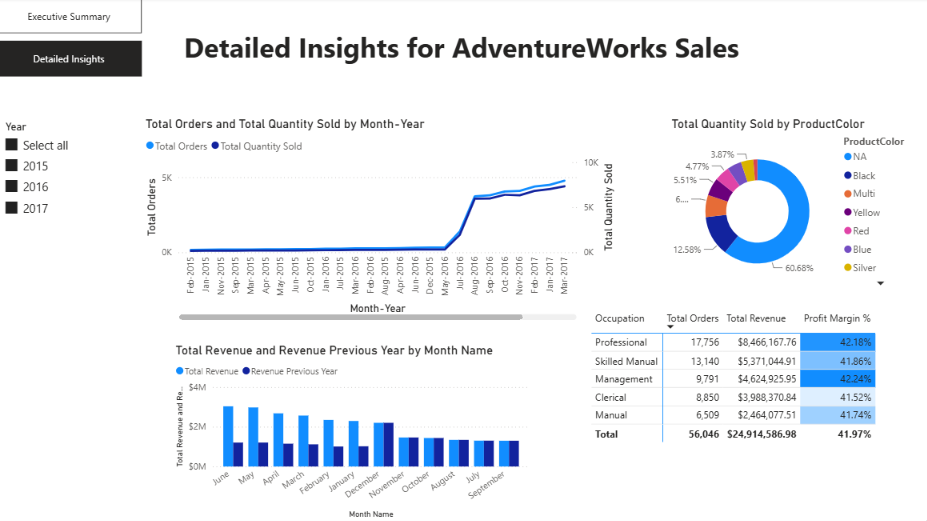

What the dashboard file says about the page in this screenshot:
{"tool":"powerbi","page":{"name":"Detailed Insights","canvas":[1280,720],"ordinal":1},"visuals":[{"type":"lineChart","fields":{"Category":["Dim_Date.Month-Year"],"Y":["_Measures.Total Orders"],"Y2":["_Measures.Total Quantity Sold"]},"box":[200.3,163.3,653.2,284],"z":0},{"type":"donutChart","fields":{"Y":["_Measures.Total Quantity Sold"],"Category":["Products.ProductColor"]},"box":[922.1,163.3,345.8,241.5],"z":1000},{"type":"clusteredColumnChart","fields":{"Category":["Dim_Date.Month Name"],"Y":["_Measures.Total Revenue","_Measures.Revenue Previous Year"]},"box":[241.5,473.4,495.4,247],"z":2000},{"type":"pivotTable","fields":{"Rows":["Customers.Occupation"],"Values":["_Measures.Total Orders","_Measures.Total Revenue","_Measures.Profit Margin %"]},"box":[812.4,422.6,467.9,285.4],"z":3000},{"type":"textbox","box":[241.5,37,794.5,71.4],"z":3001},{"type":"slicer","fields":{"Values":["Dim_Date.Year"]},"box":[0,163.3,140,150.9],"z":3002},{"type":"pageNavigator","box":[0,0,200.3,108.4],"z":3003}]}

Visuals, with their boxes on the page's 1280x720 design canvas (x1, y1, x2, y2). These are canvas units, not pixel positions in the 927x521 screenshot, which may show the page scaled, cropped or inside an application window:
lineChart - Dim_Date.Month-Year x _Measures.Total Orders: box(200, 163, 854, 447)
donutChart - _Measures.Total Quantity Sold x Products.ProductColor: box(922, 163, 1268, 405)
clusteredColumnChart - Dim_Date.Month Name x _Measures.Total Revenue: box(242, 473, 737, 720)
pivotTable - Customers.Occupation x _Measures.Total Orders: box(812, 423, 1280, 708)
textbox: box(242, 37, 1036, 108)
slicer - Dim_Date.Year: box(0, 163, 140, 314)
pageNavigator: box(0, 0, 200, 108)
